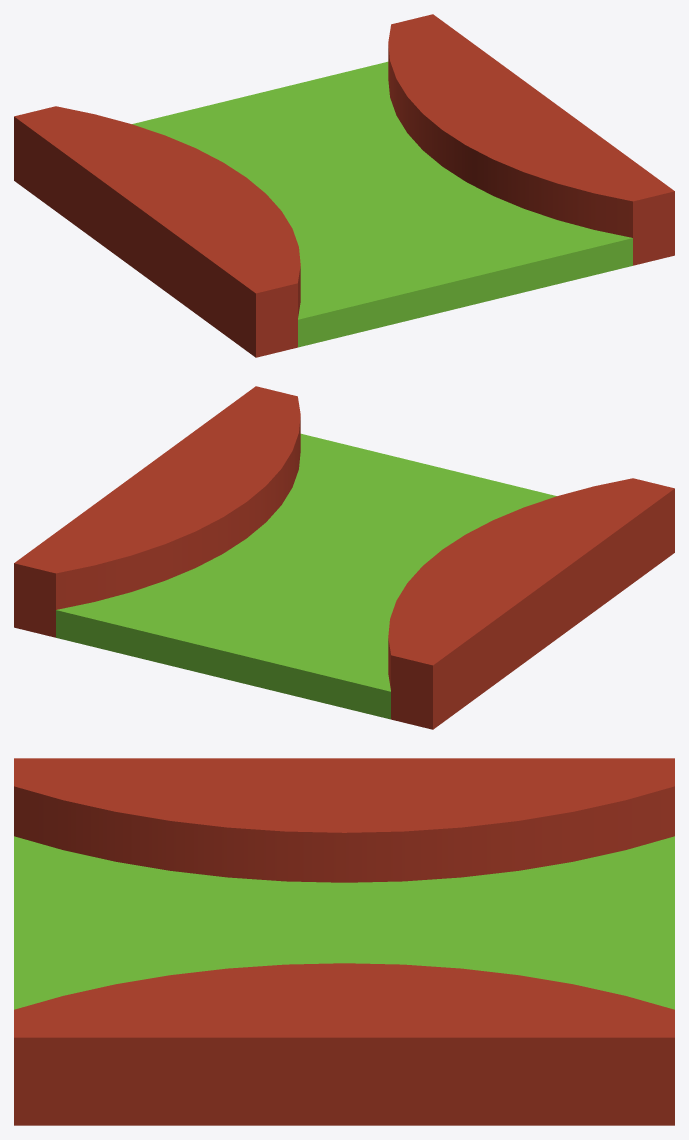
The model's file is Narrow_round_01.obj.
3 views of the same model, one above another, from view 1: azimuth 30°, elevation 25°; view 2: azimuth 150°, elevation 25°; view 3: azimuth 270°, elevation 25° (orthographic). The views are drawn at different scales.
Visible parts, largest first — view 1: Mesh1_Narrow_round_Model; view 2: Mesh1_Narrow_round_Model; view 3: Mesh1_Narrow_round_Model.
Part boxes in pixels (box(x1,y1,x2,y2)): Mesh1_Narrow_round_Model: box(14, 14, 674, 357); Mesh1_Narrow_round_Model: box(14, 386, 674, 729); Mesh1_Narrow_round_Model: box(14, 758, 674, 1125).
Size of the model in its own units: 3 by 0.44 by 3.
